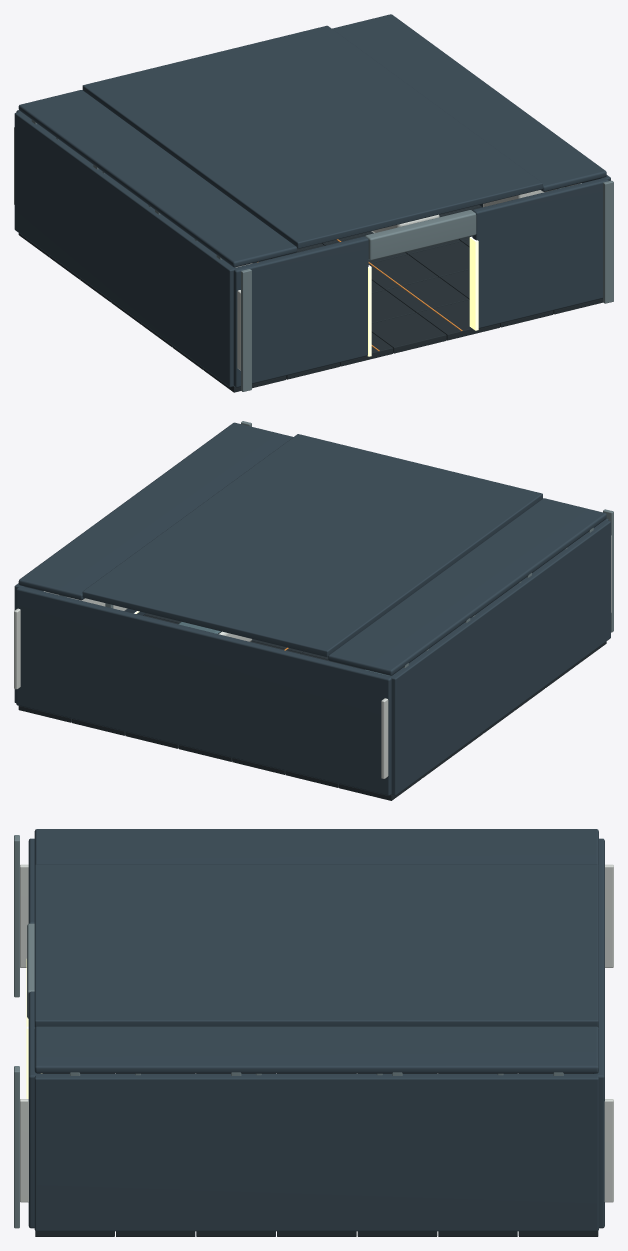
Rendered from medbay_room.glb.
The picture shows the model from 3 angles, top to bottom: view 1: azimuth 30°, elevation 25°; view 2: azimuth 150°, elevation 25°; view 3: azimuth 270°, elevation 25°; orthographic projection. The views are drawn at different scales.
Visible parts, largest first — view 1: medbay_room; view 2: medbay_room; view 3: medbay_room.
Boxes of the visible parts, <box> form: medbay_room: <box>14,14,613,392</box>; medbay_room: <box>14,421,613,800</box>; medbay_room: <box>14,829,613,1236</box>.
Size of the model in its own units: 14.3 by 4.82 by 14.89.
